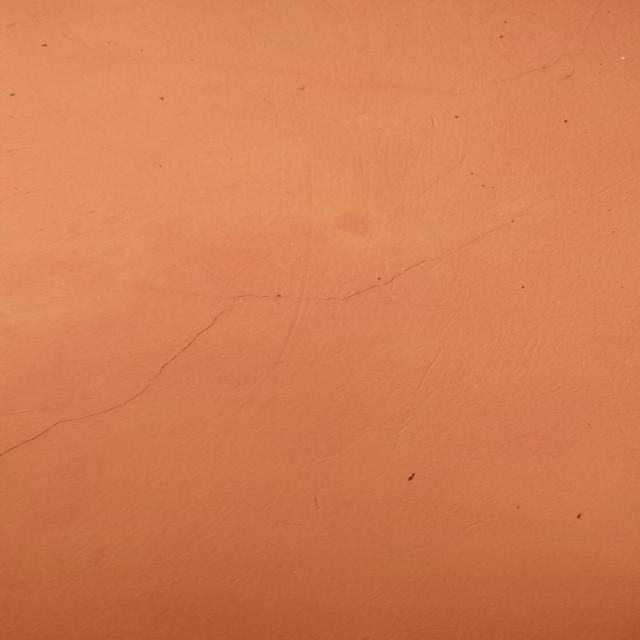Crack: (2, 211, 517, 453)
